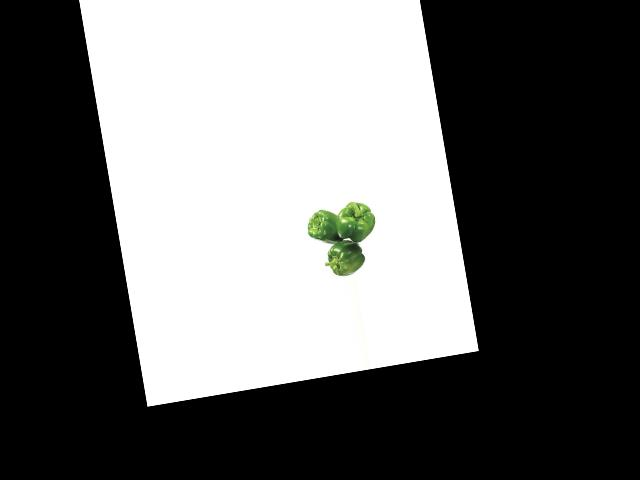bell_pepper: (331, 194, 381, 245)
